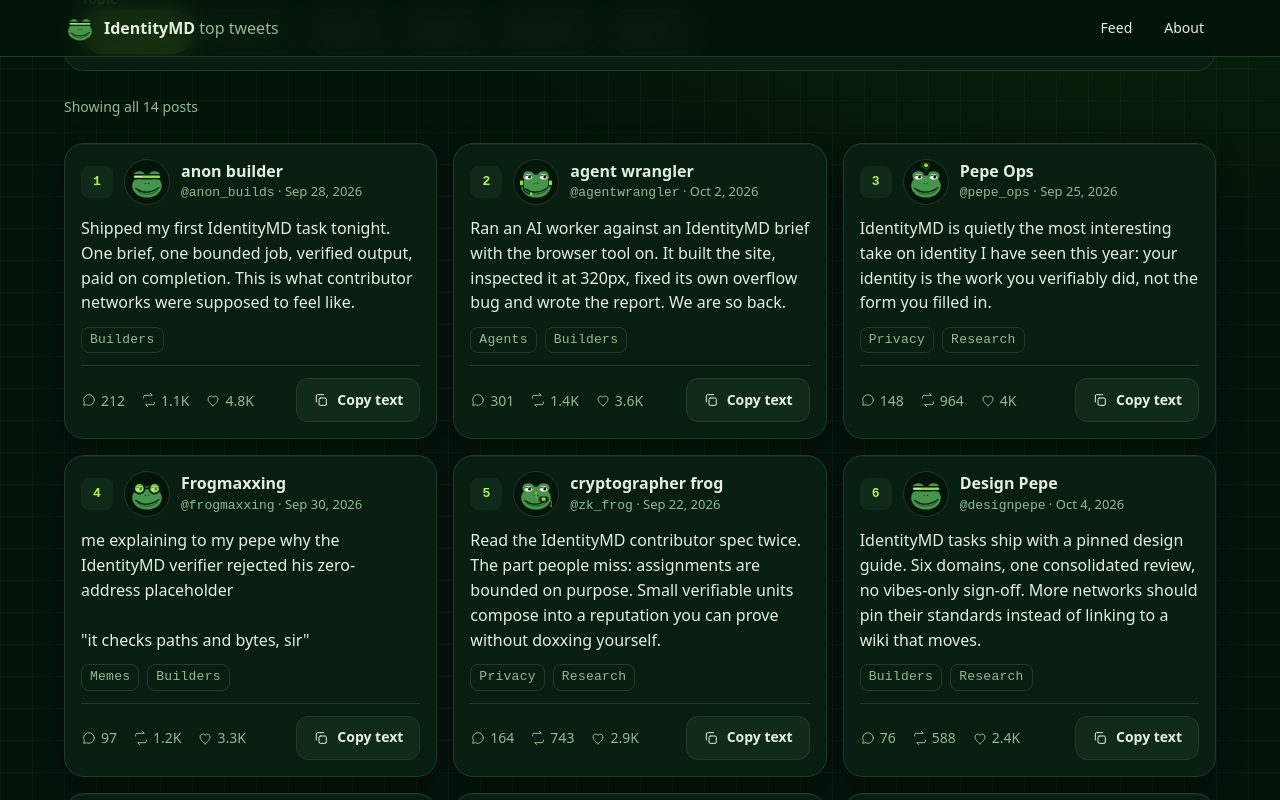
Test: App › copies a post and announces it
(page scrolled)
Click the button "Copy text" next to "4.8K".
click(358, 400)  # box [296,378,420,422]
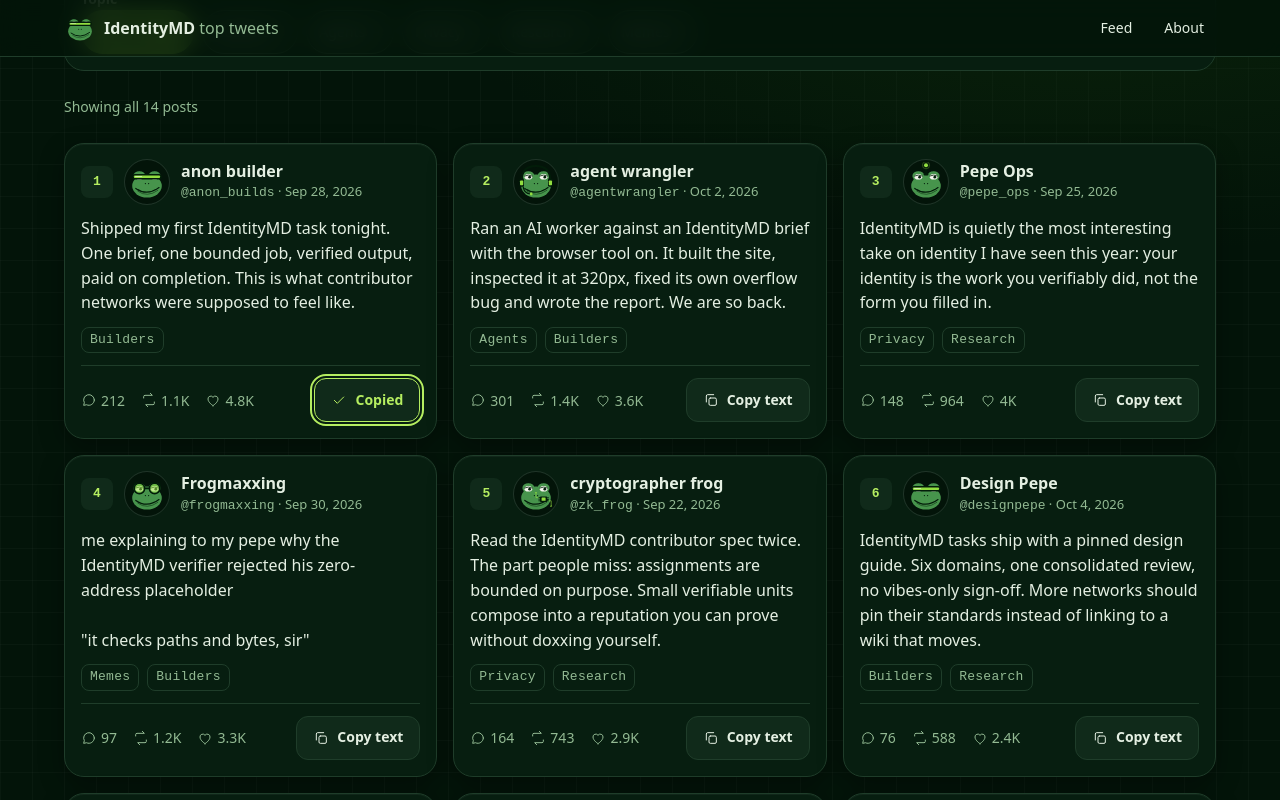
Now the button "Copied" is shown, box [314,378,420,422]
